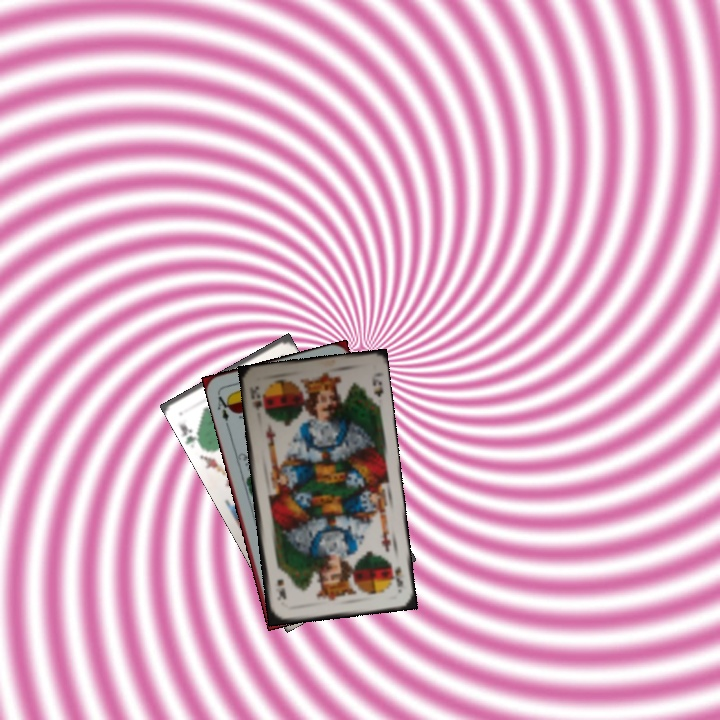EA: (213, 392, 235, 429)
GK: (175, 419, 203, 447)
SK: (245, 382, 265, 413), (387, 558, 405, 590)
